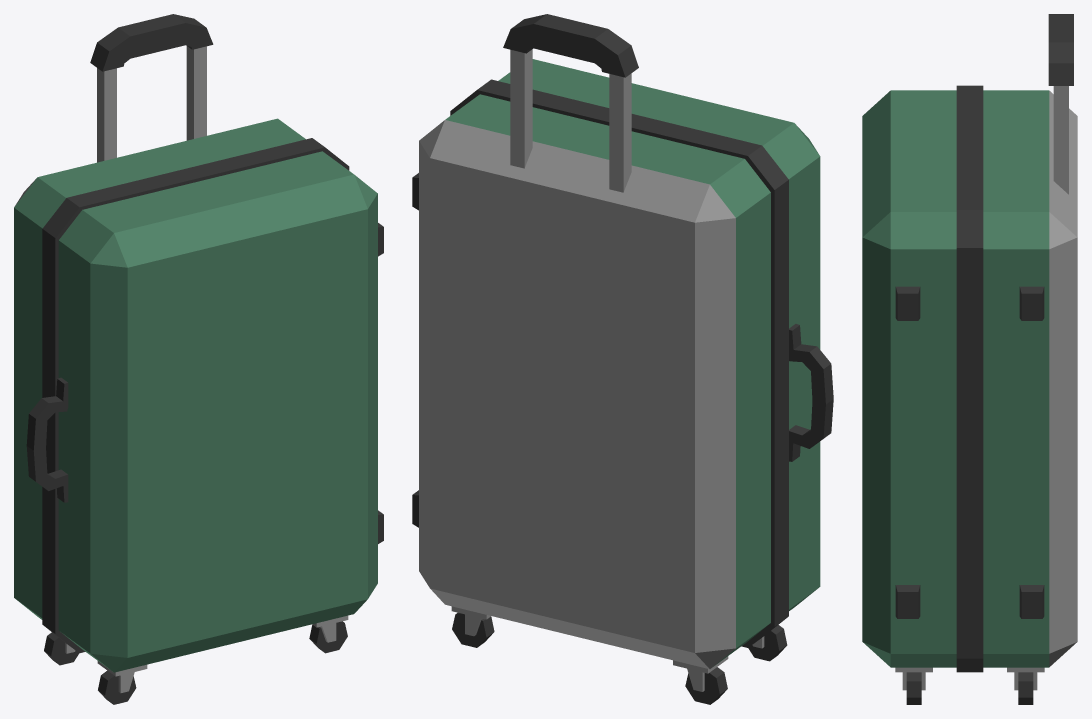
Rendered from Suitcase_01.glb.
3 views of the same model, side by side, from view 1: azimuth 30°, elevation 25°; view 2: azimuth 150°, elevation 25°; view 3: azimuth 270°, elevation 25° (orthographic). The views are drawn at different scales.
Parts seen in each view (by area): view 1: Suitcase_1_mesh; view 2: Suitcase_1_mesh; view 3: Suitcase_1_mesh.
Boxes of the visible parts, x1,y1,x2,y2 form: Suitcase_1_mesh: (14, 14, 383, 704); Suitcase_1_mesh: (412, 14, 833, 704); Suitcase_1_mesh: (862, 14, 1077, 704).
Size of the model in its own units: 0.7376 by 1.27 by 0.4.
1 material, 1 textured.
